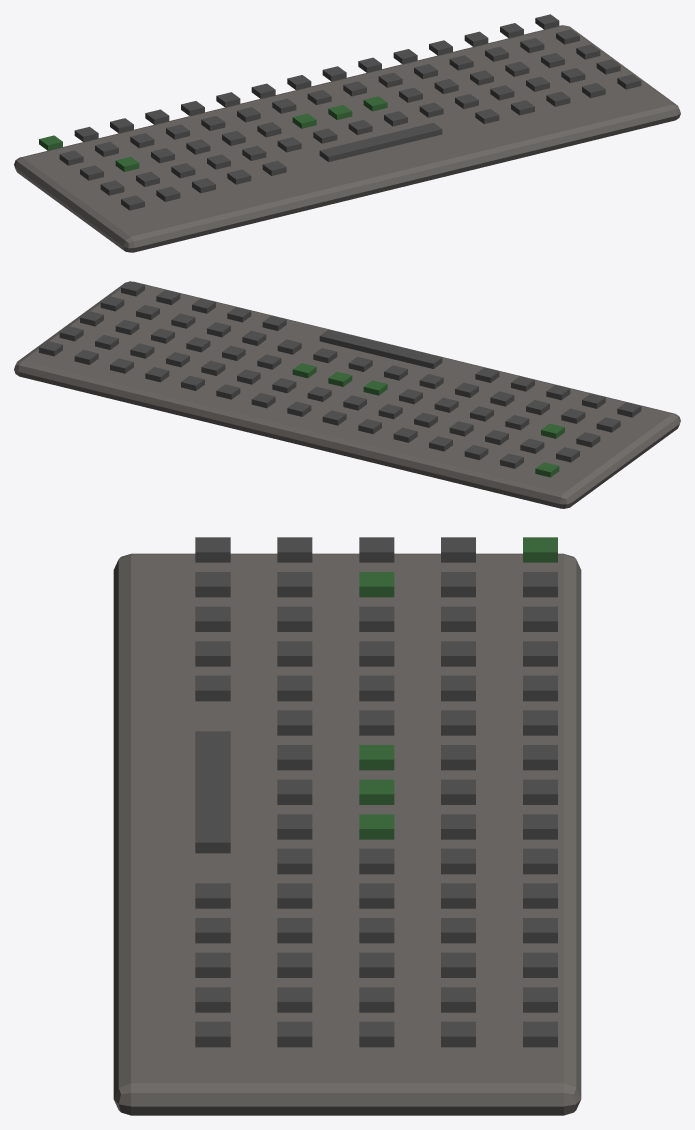
File: prop_keyboard.glb
3 views of the same model, one above another, from view 1: azimuth 30°, elevation 25°; view 2: azimuth 150°, elevation 25°; view 3: azimuth 270°, elevation 25° (orthographic). The views are drawn at different scales.
Visible parts, largest first — view 1: prop_keyboard; view 2: prop_keyboard; view 3: prop_keyboard.
Boxes of the visible parts, x1,y1,x2,y2 form: prop_keyboard: (14,14,680,252); prop_keyboard: (14,281,680,508); prop_keyboard: (113,537,581,1115).
Bounding box in the file's own units: 0.22 × 0.012 × 0.08.
